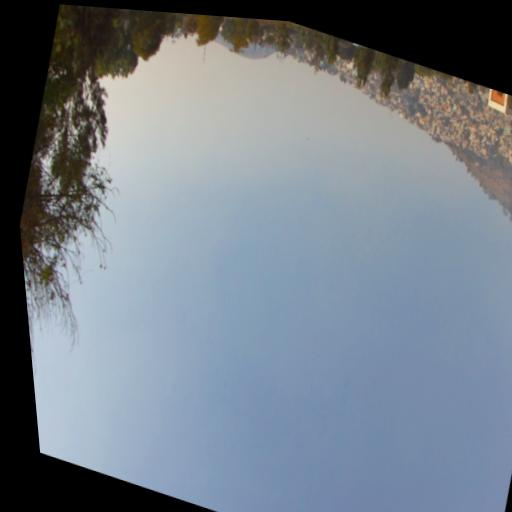drones: (305, 136, 310, 142)
